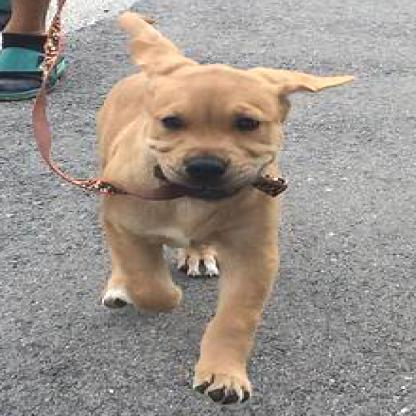dog: (96, 12, 356, 408)
